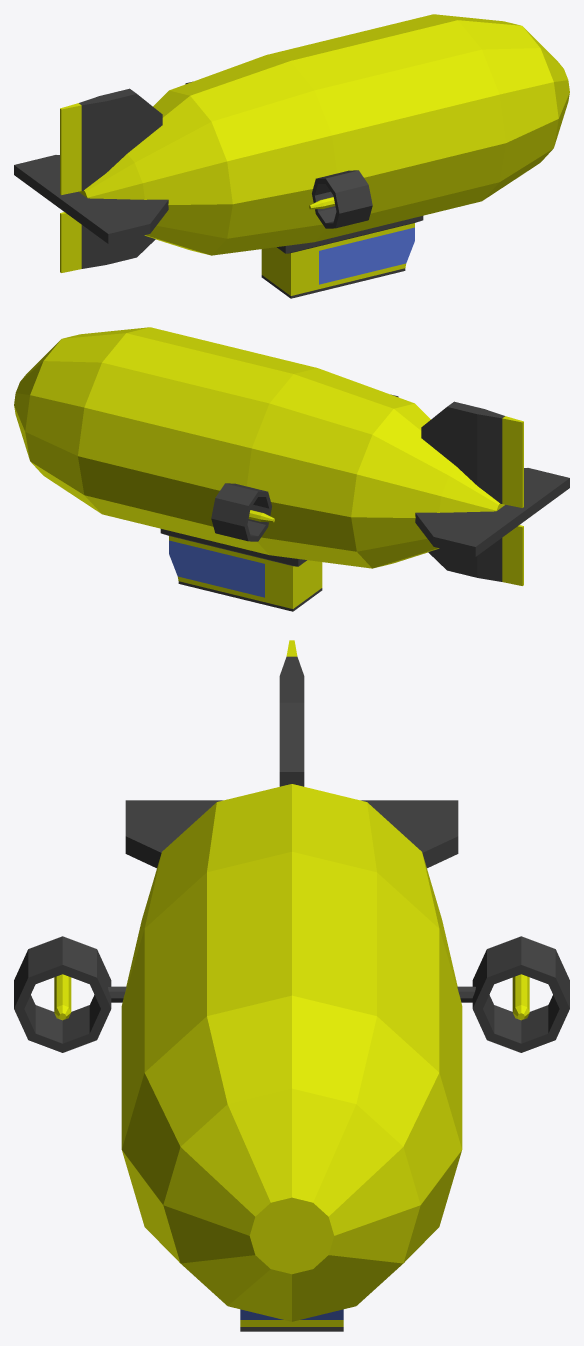
The model's file is Zeppelin.dae.
3 renders of one model, top to bottom at view 1: azimuth 30°, elevation 25°; view 2: azimuth 150°, elevation 25°; view 3: azimuth 270°, elevation 25°, orthographic. The views are drawn at different scales.
Visible parts, largest first — view 1: Cylinder, Cube, Cylinder.001; view 2: Cylinder, Cube, Cylinder.001; view 3: Cylinder, Cylinder.001, Cube.
Boxes of the visible parts, box(x1,y1,x2,y2) form: Cylinder: box(14, 14, 569, 272); Cube: box(261, 216, 423, 298); Cylinder.001: box(185, 81, 372, 228); Cylinder: box(14, 327, 569, 585); Cube: box(160, 529, 322, 611); Cylinder.001: box(211, 394, 398, 541); Cylinder: box(121, 640, 462, 1321); Cylinder.001: box(14, 936, 569, 1052); Cube: box(240, 1309, 343, 1331).
Bounding box in the file's own units: 0.5939 × 0.3266 × 0.2644.
